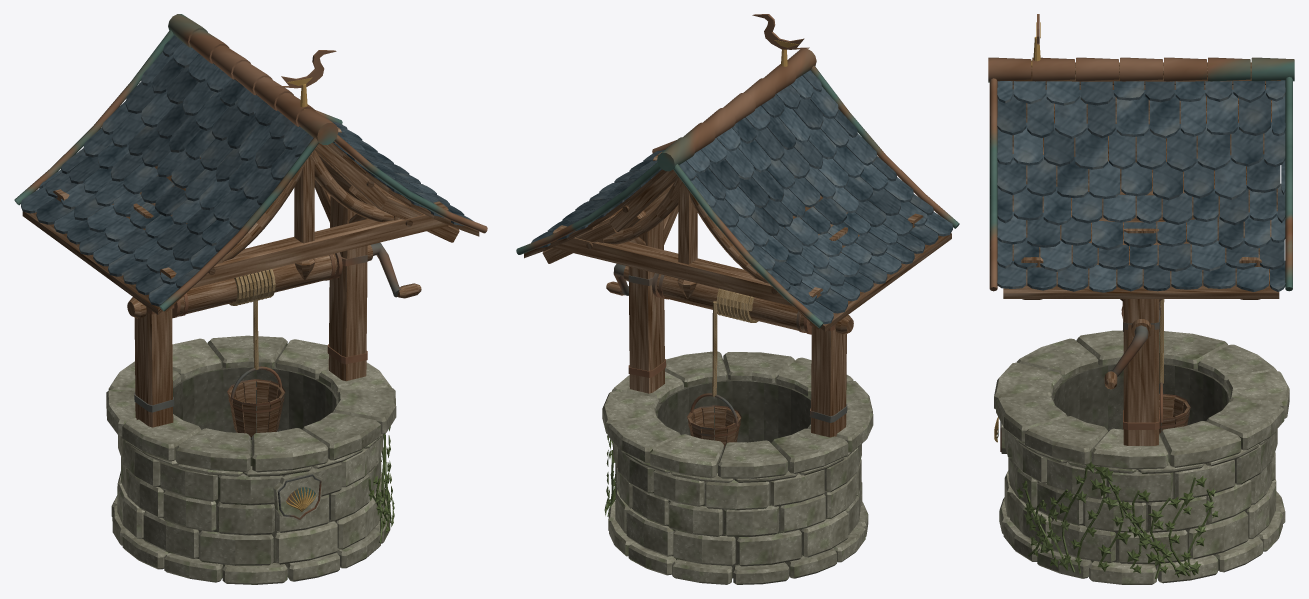
The model's file is heron-well.glb.
3 views of the same model, side by side, from view 1: azimuth 30°, elevation 25°; view 2: azimuth 150°, elevation 25°; view 3: azimuth 270°, elevation 25° (orthographic). The views are drawn at different scales.
Visible parts, largest first — view 1: heron-well; view 2: heron-well; view 3: heron-well.
Boxes of the visible parts, x1,y1,x2,y2 form: heron-well: (14,14,487,584); heron-well: (516,14,959,584); heron-well: (988,14,1294,584).
Bounding box in the file's own units: 2.29 × 3.4 × 1.82.
1 material, 1 textured.
